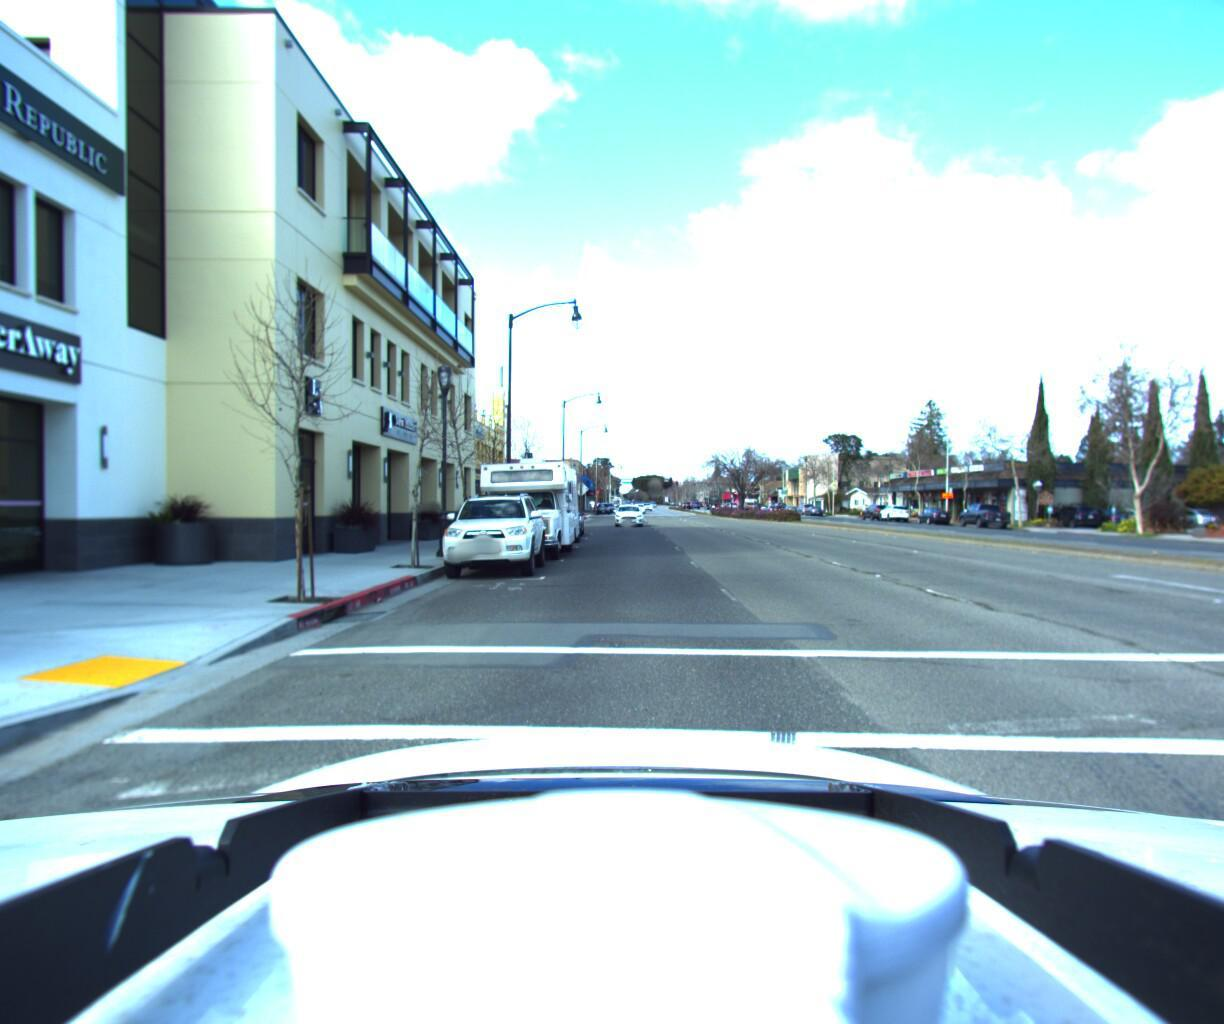car: (434, 489, 543, 578), (951, 503, 1012, 529), (1043, 503, 1106, 528), (613, 503, 642, 527), (911, 508, 951, 525), (874, 504, 909, 522), (1215, 510, 1224, 553)
other_vehicle: (462, 450, 576, 566)
